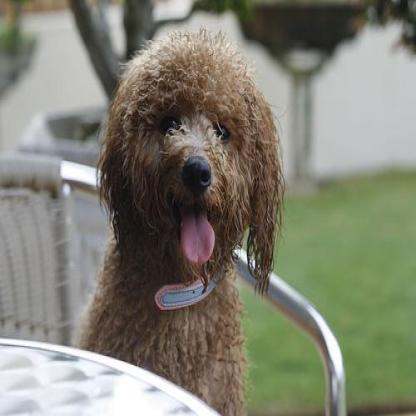miniature_poodle: (80, 23, 287, 414)
